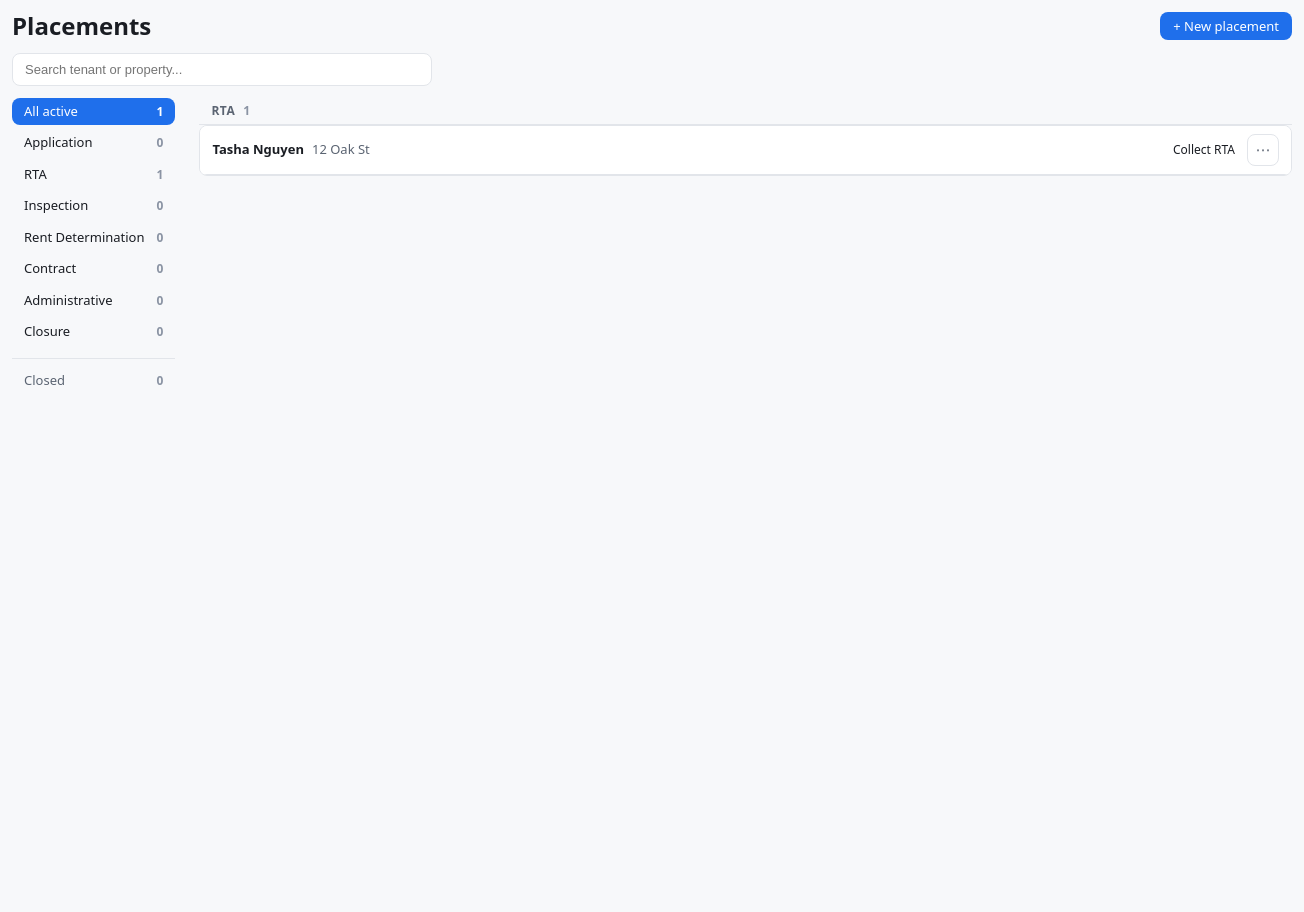
Test: PlacementsPage › a rejected move shows the inline error and rolls back
Click the button named "Actions for Tasha Nguyen".
click(1263, 150)  # box 1247,134 -> 1279,166
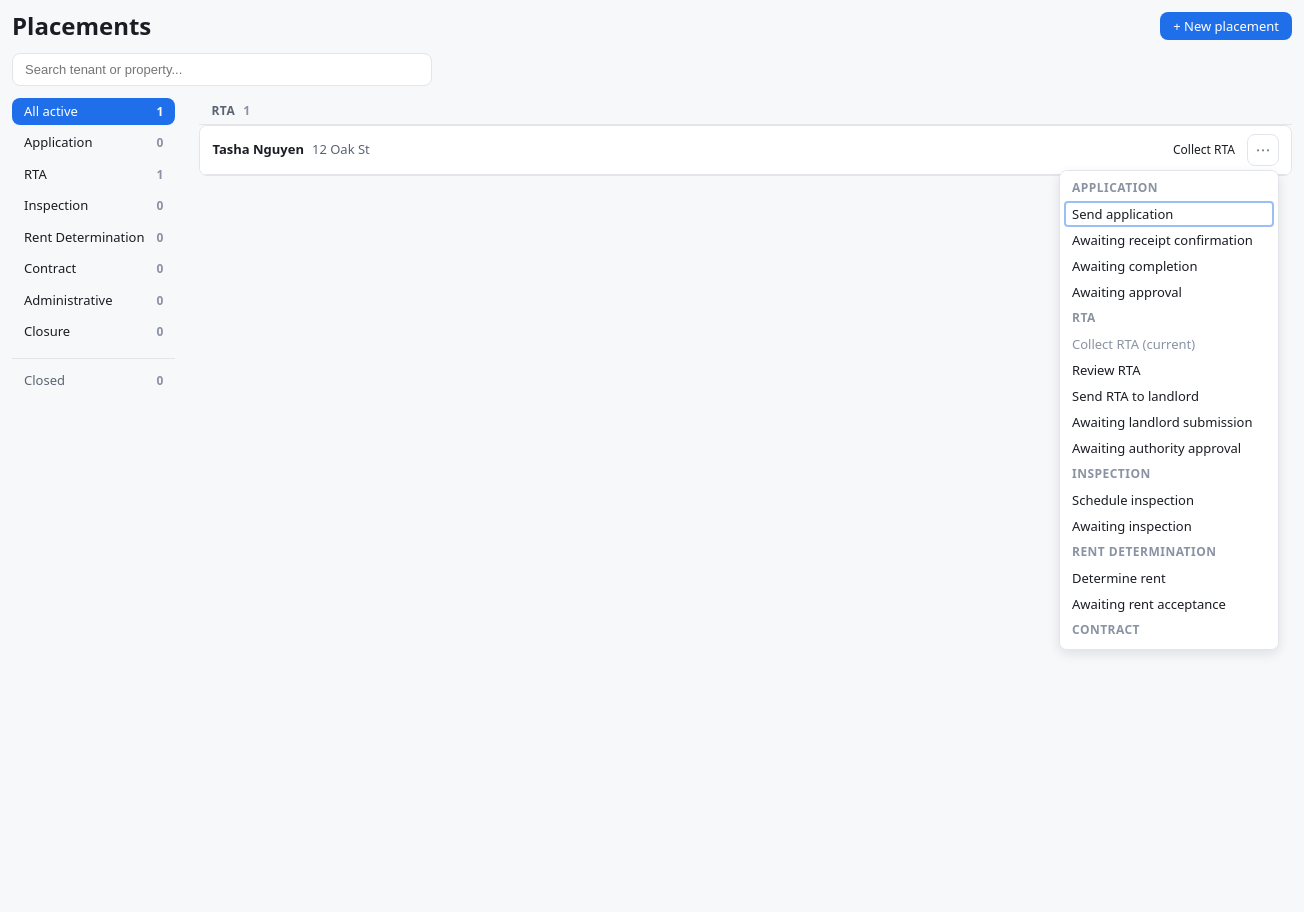
Click the menu item "Review RTA".
click(1169, 370)  # box 1064,357 -> 1274,383
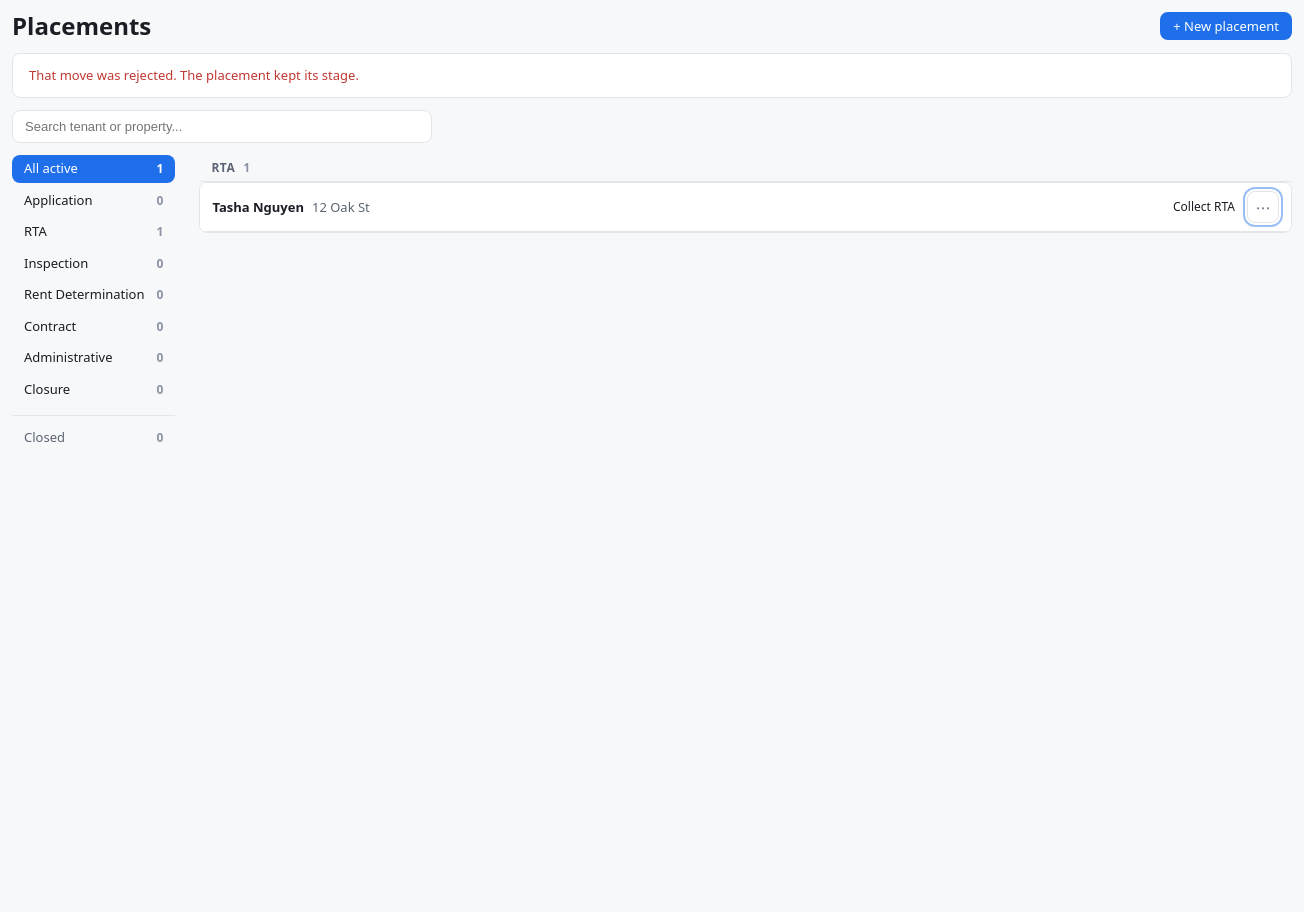
Expected: the link named "Tasha Nguyen - Collect RTA" is shown, 200,183 -> 1291,231
Result: the message "That move was rejected. The placement kept its stage." is shown at 12,53 -> 1292,98
